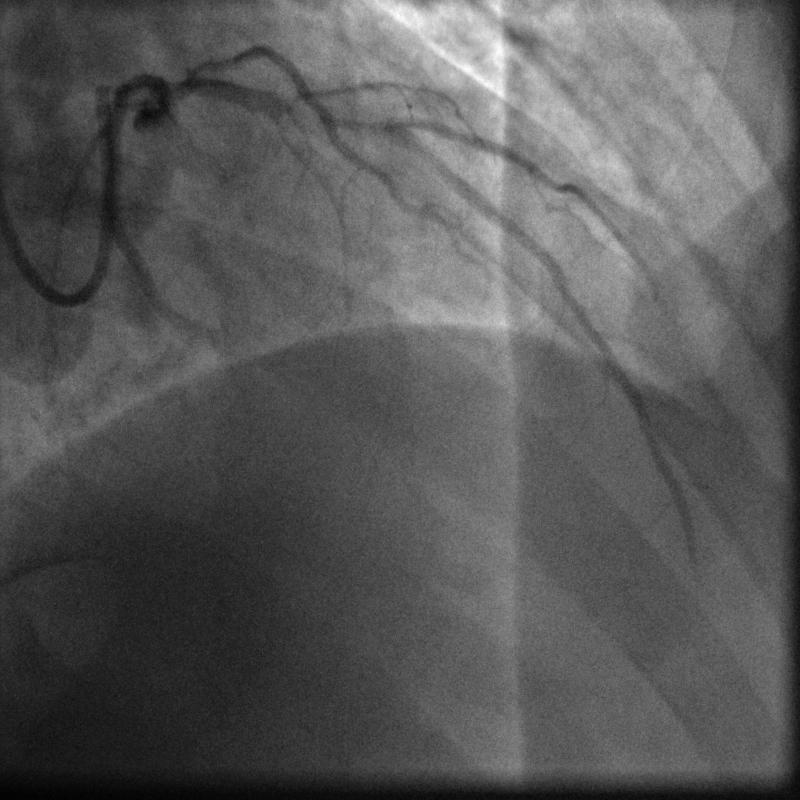Stenosis: (279, 102, 381, 137)
